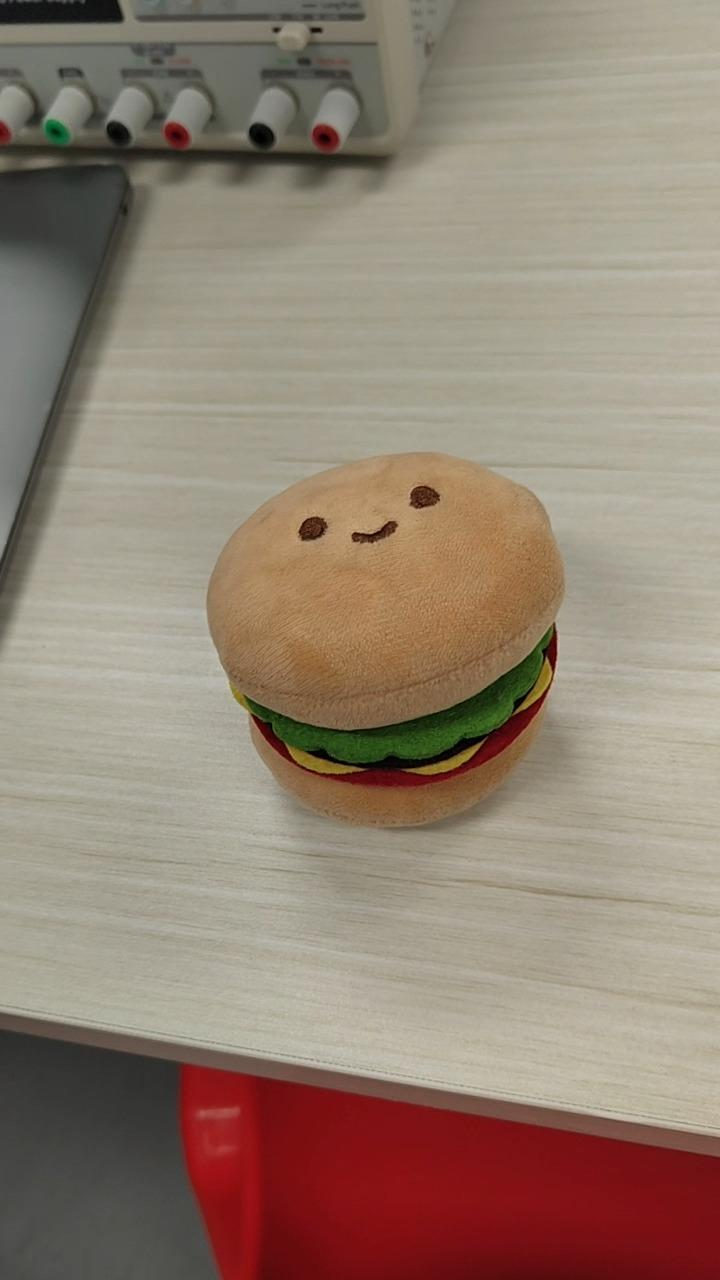hamburger: (204, 449, 565, 830)
